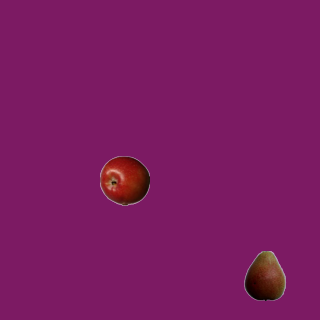Apple Braeburn: (99, 155, 149, 205)
Pear Forelle: (239, 250, 289, 300)
